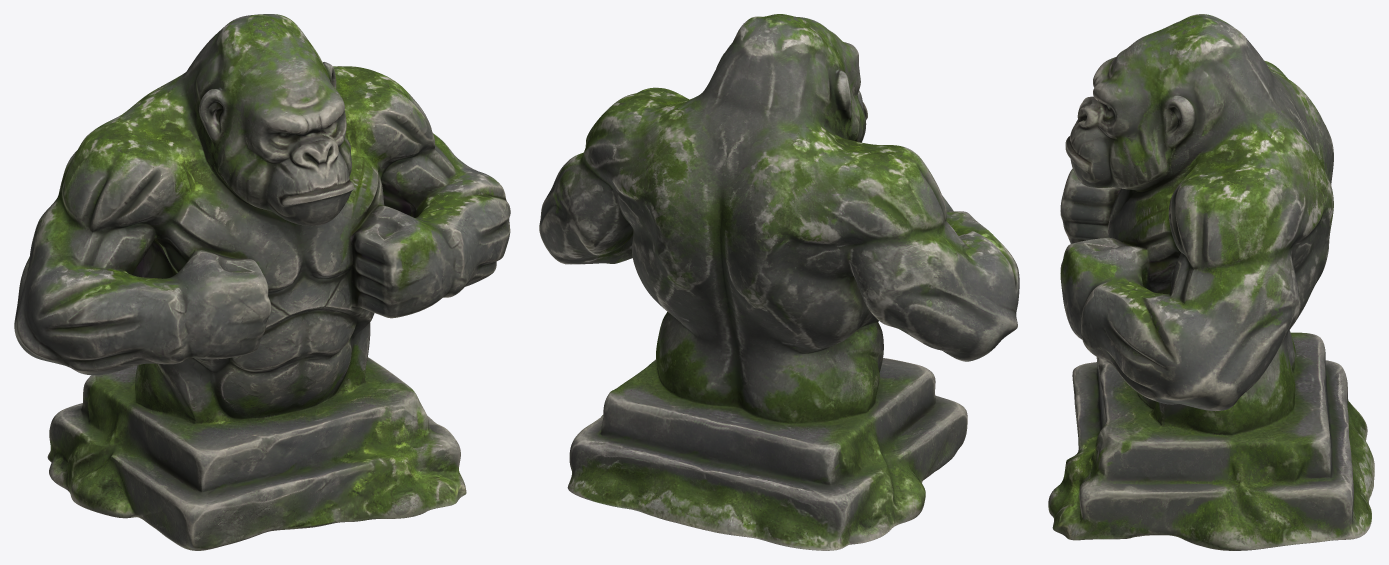
File: ape.glb
The picture shows the model from 3 angles, left to right: view 1: azimuth 30°, elevation 25°; view 2: azimuth 150°, elevation 25°; view 3: azimuth 270°, elevation 25°; orthographic projection. The views are drawn at different scales.
Bounding box in the file's own units: 9.9 × 9 × 5.89.
Materials: 1 (1 with a texture image).
